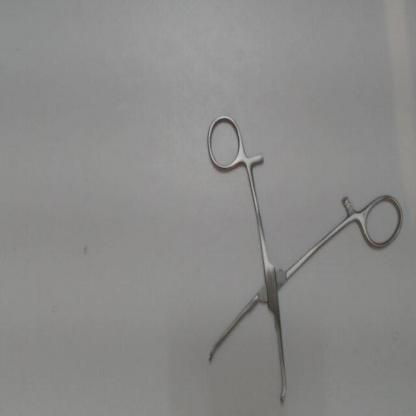Allis Tissue Forceps: (196, 103, 409, 411)
